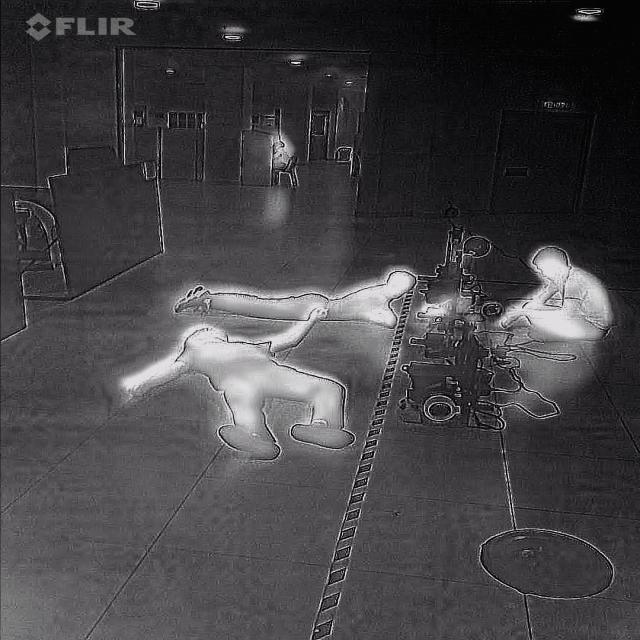Victim: (109, 262, 423, 470), (491, 236, 614, 348)
